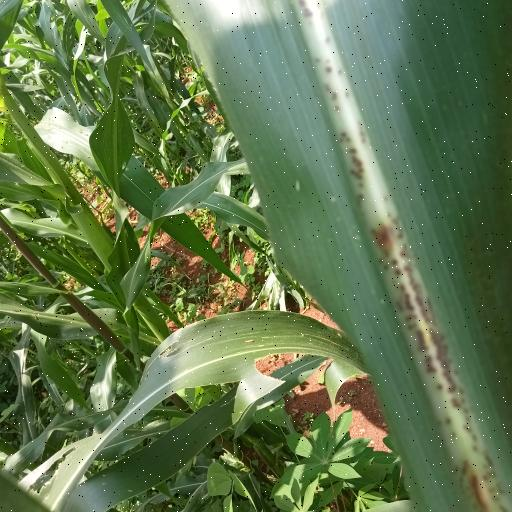Corn_Brown_Spots: (174, 0, 512, 503)
